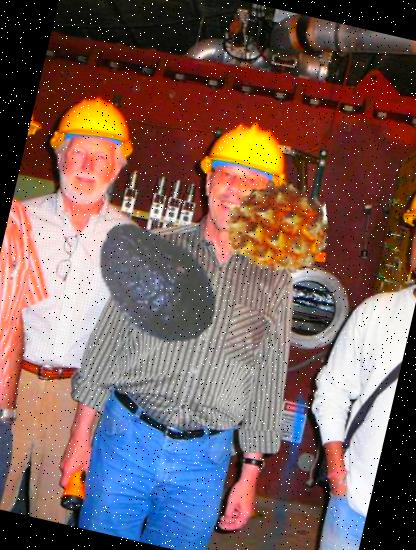Avocado: (71, 200, 237, 366)
Pineapple: (214, 166, 339, 290)
